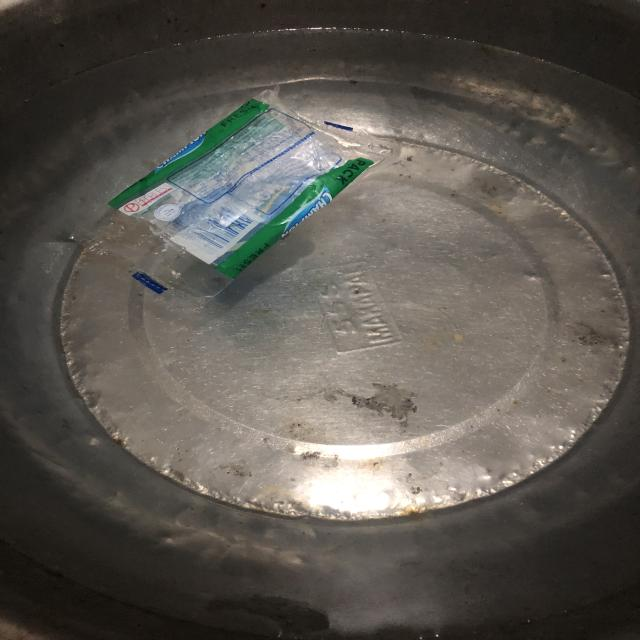Plastic Wrapper: (68, 80, 392, 312)
